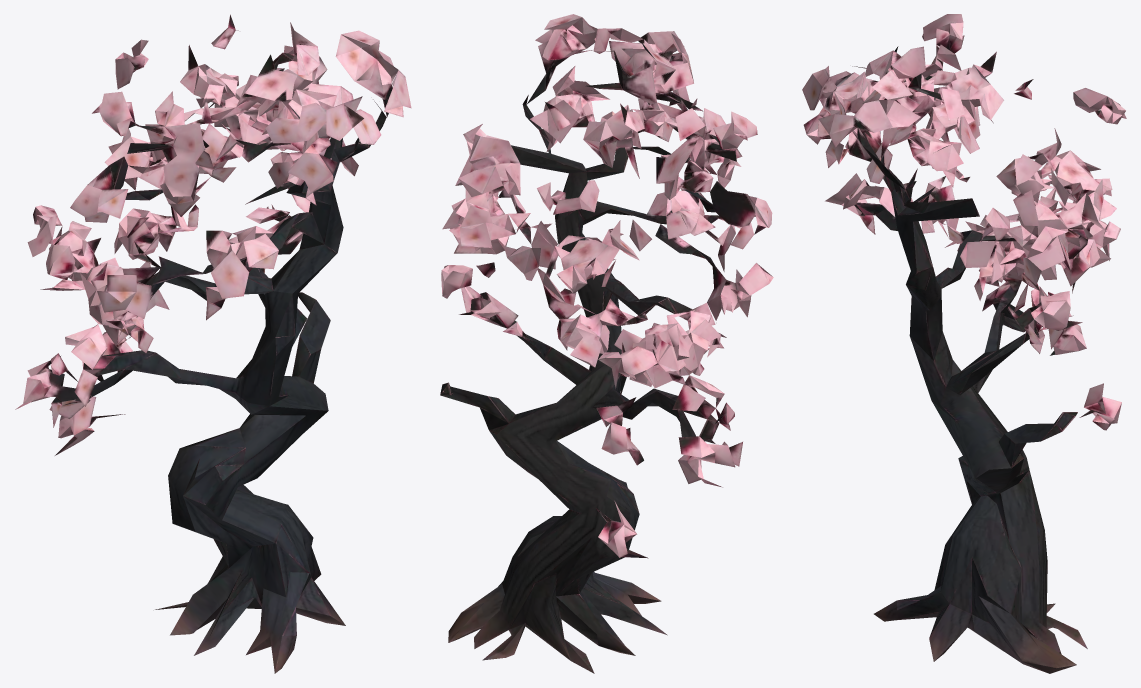
The model's file is sakura.glb.
3 renders of one model, left to right at view 1: azimuth 30°, elevation 25°; view 2: azimuth 150°, elevation 25°; view 3: azimuth 270°, elevation 25°, orthographic. The views are drawn at different scales.
Bounding box in the file's own units: 0.9781 × 1.89 × 0.942.
Materials: 1 (1 with a texture image).
